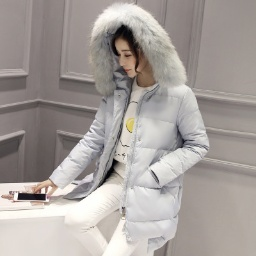face: (104, 22, 165, 84)
